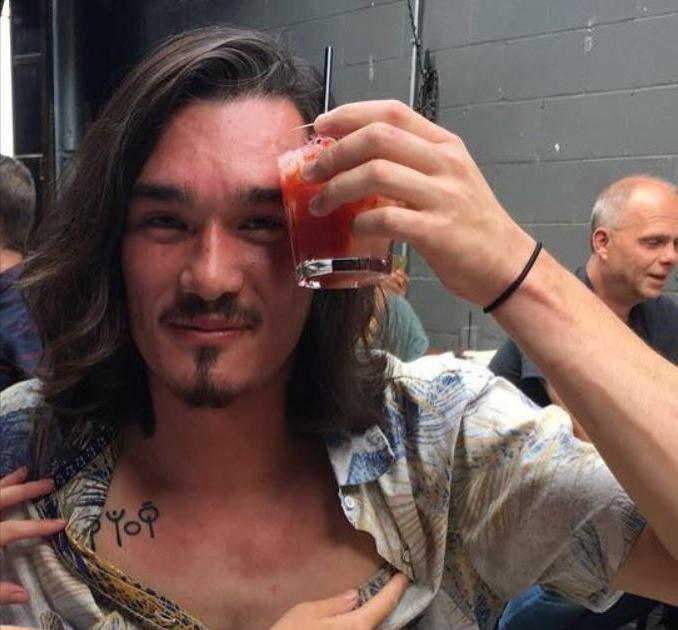Drunk: (139, 129, 308, 373)
